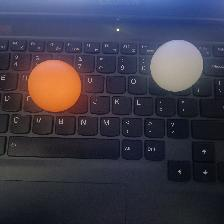WhiteBall: (149, 38, 204, 91)
YellowBall: (26, 59, 81, 112)
